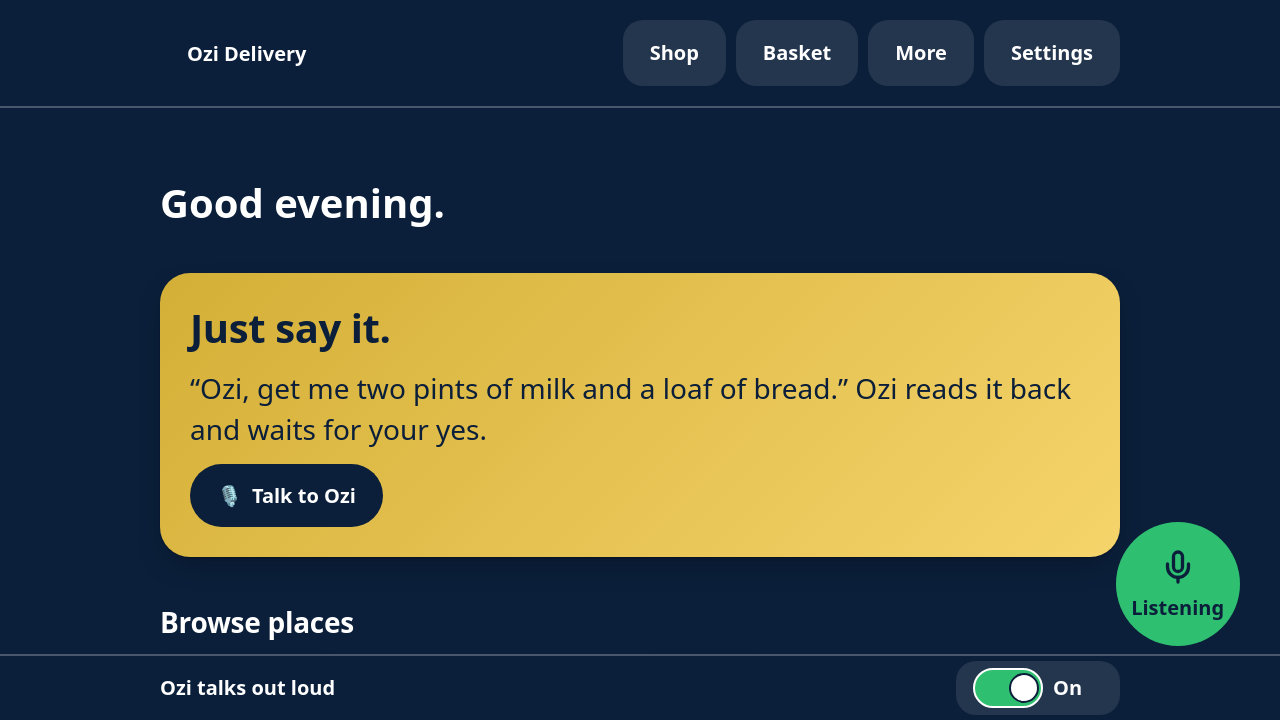
Scenario: the round button › reminds gently while paused: aloud once after two minutes, then on the screen every three
The width and height of the screenshot is (1280, 720).
What coordinates should you click on to do the following:
click the button "Listening"
I would click on:
 (1178, 584)
Its box is [1116, 522, 1240, 646].
Wait 300000 ms
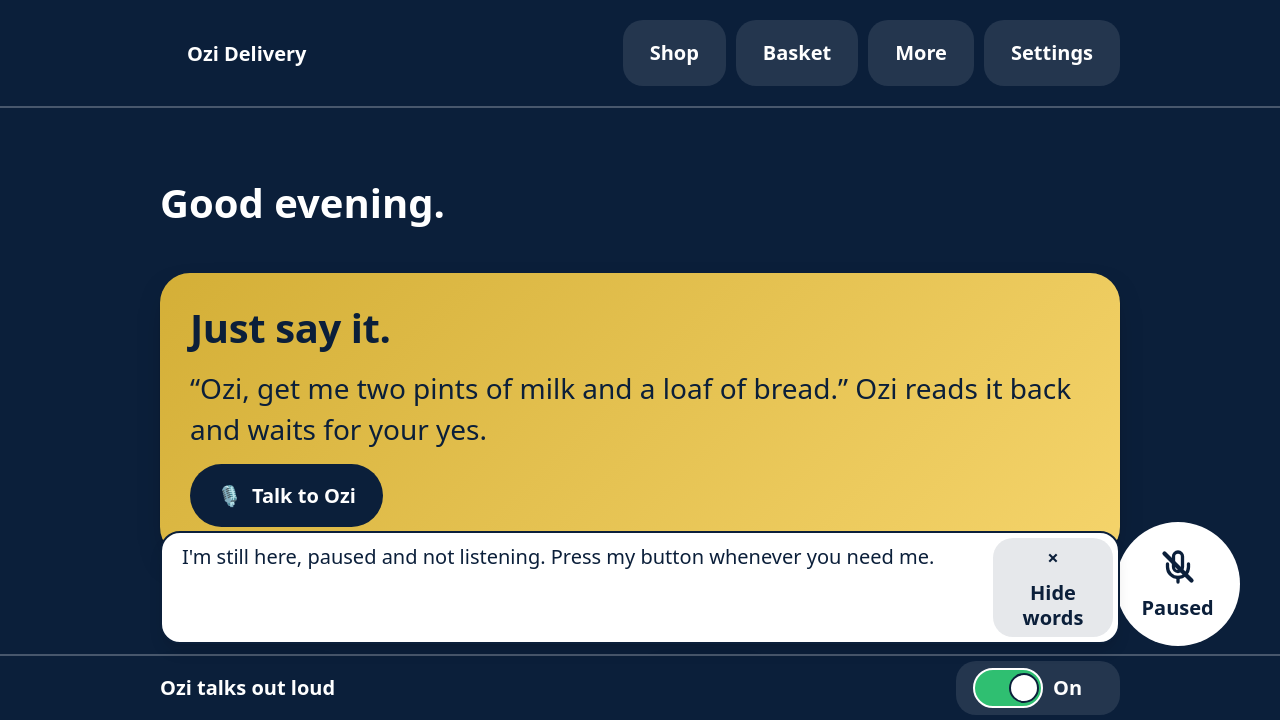
Now the button "Paused" is shown, box [1116, 522, 1240, 646]
